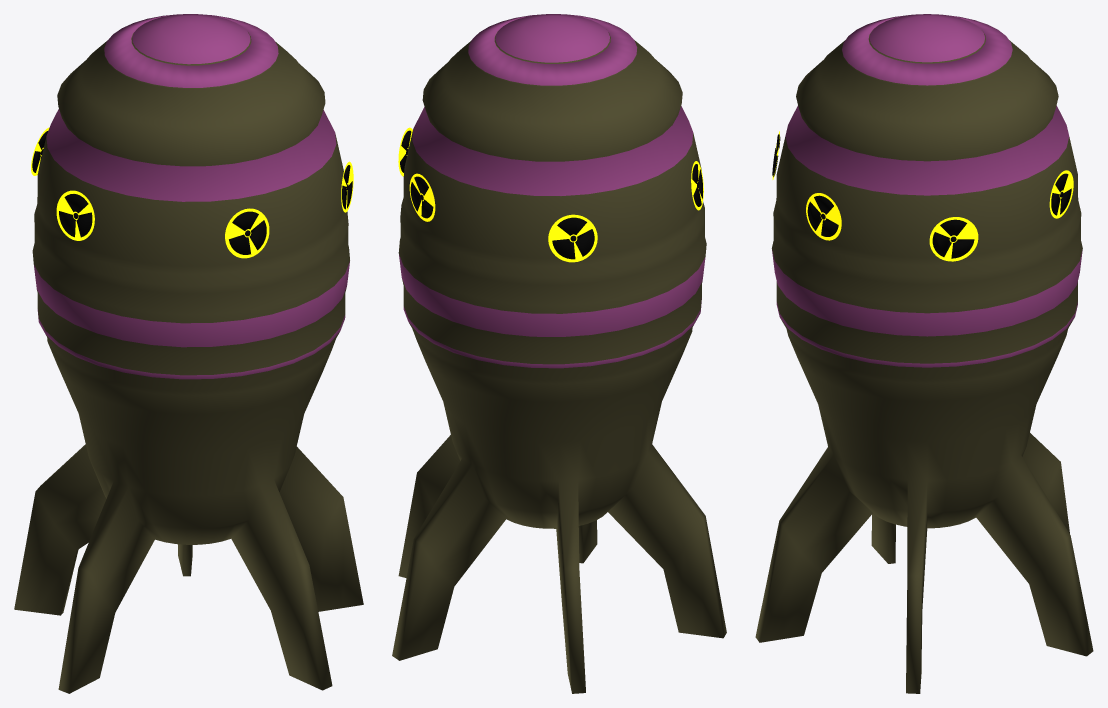
File: Nuclear Bomb Atom for game fbx free 3d models.fbx
3 views of the same model, side by side, from view 1: azimuth 30°, elevation 25°; view 2: azimuth 150°, elevation 25°; view 3: azimuth 270°, elevation 25° (orthographic). The views are drawn at different scales.
Parts seen in each view (by area): view 1: Sphere; view 2: Sphere; view 3: Sphere.
Part boxes in pixels (<box>): Sphere: <box>14,14,363,693</box>; Sphere: <box>392,14,726,693</box>; Sphere: <box>755,14,1093,693</box>.
Size of the model in its own units: 273 by 504 by 260.
